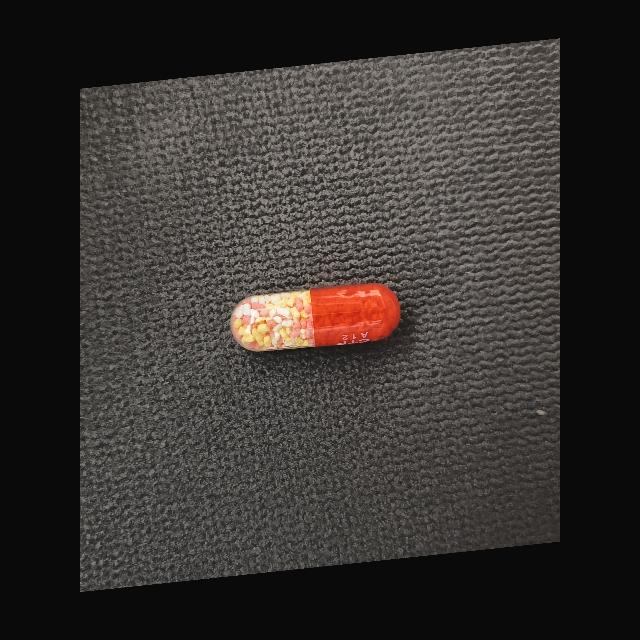Intact Capsule: (230, 283, 401, 351)
